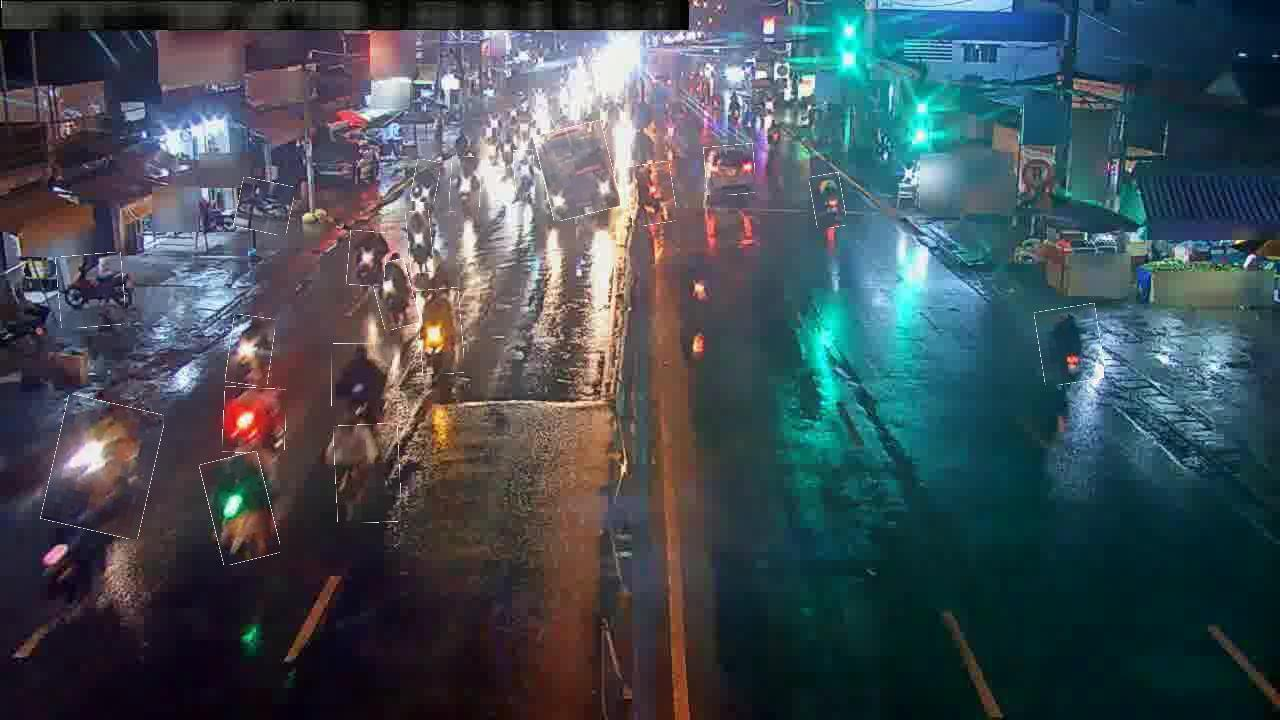14: (538, 124, 617, 218)
container: (704, 144, 755, 195)
motorbike: (47, 399, 159, 536), (205, 454, 276, 564), (335, 424, 401, 524), (1037, 305, 1103, 384), (57, 254, 125, 328), (223, 387, 287, 454), (418, 288, 464, 375), (332, 344, 390, 412), (228, 316, 274, 386), (626, 162, 675, 226), (373, 260, 417, 330), (236, 180, 293, 234), (347, 231, 386, 287), (811, 173, 845, 228), (450, 157, 482, 213), (407, 210, 433, 274), (412, 160, 440, 204), (514, 150, 536, 195), (469, 266, 470, 268)
